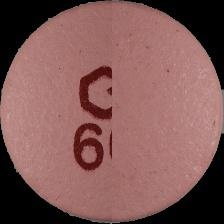59762-6691: (0, 0, 224, 224)
